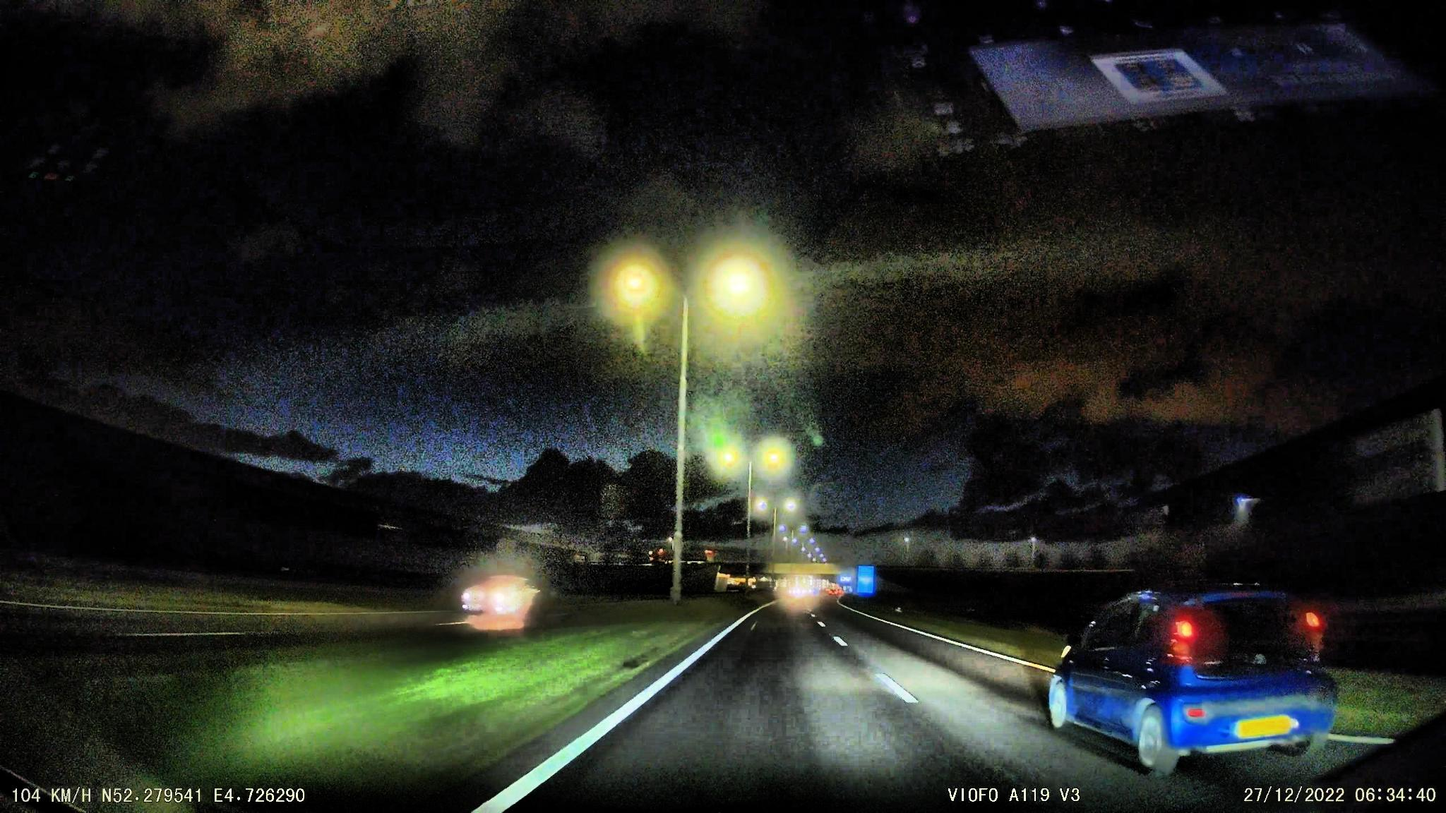Roads: (500, 610, 1446, 813)
